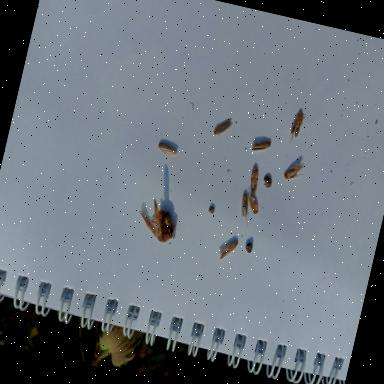pbw: (282, 156, 306, 188), (288, 107, 310, 140), (251, 134, 275, 160), (216, 236, 238, 264), (214, 113, 235, 142), (153, 139, 181, 158), (243, 191, 265, 215), (245, 166, 263, 195), (236, 193, 252, 220)
